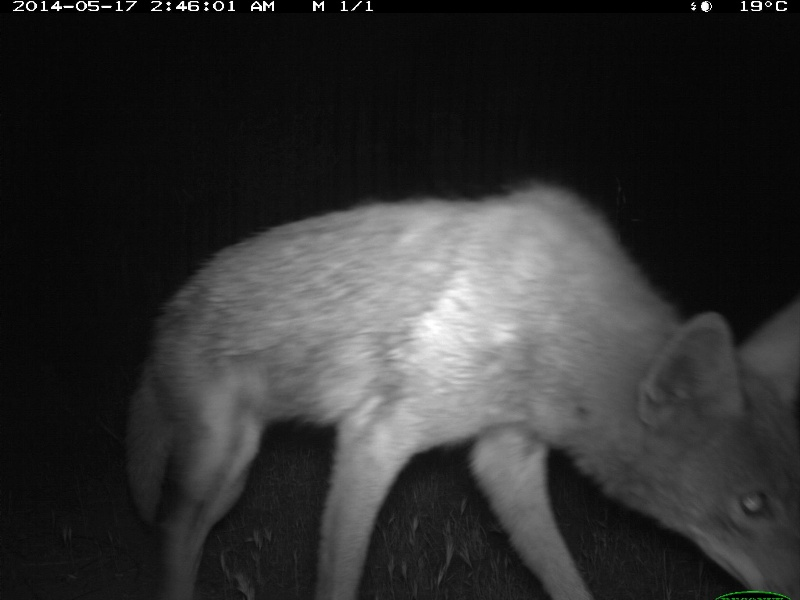coyote: (124, 173, 796, 597)
